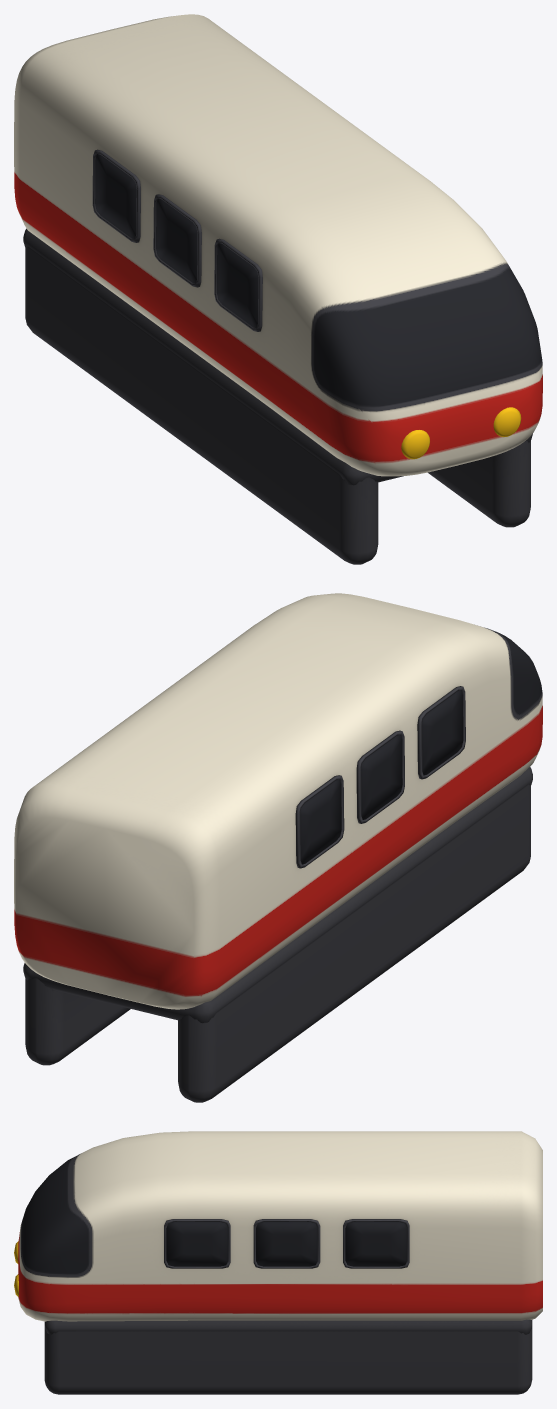
The model's file is monorail-car.fbx.
The picture shows the model from 3 angles, top to bottom: view 1: azimuth 30°, elevation 25°; view 2: azimuth 150°, elevation 25°; view 3: azimuth 270°, elevation 25°; orthographic projection. The views are drawn at different scales.
Visible parts, largest first — view 1: monorail-car; view 2: monorail-car; view 3: monorail-car.
Part boxes in pixels (x1=…): monorail-car: x1=14, y1=14, x2=542, y2=564; monorail-car: x1=14, y1=593, x2=542, y2=1102; monorail-car: x1=14, y1=1131, x2=542, y2=1394.
Size of the model in its own units: 1127 by 1488 by 3400.
1 material, 1 textured.
